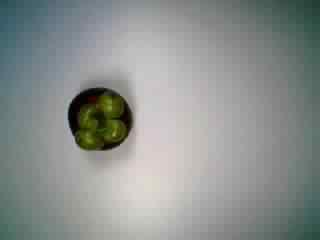mangosteen: (64, 81, 138, 153)
